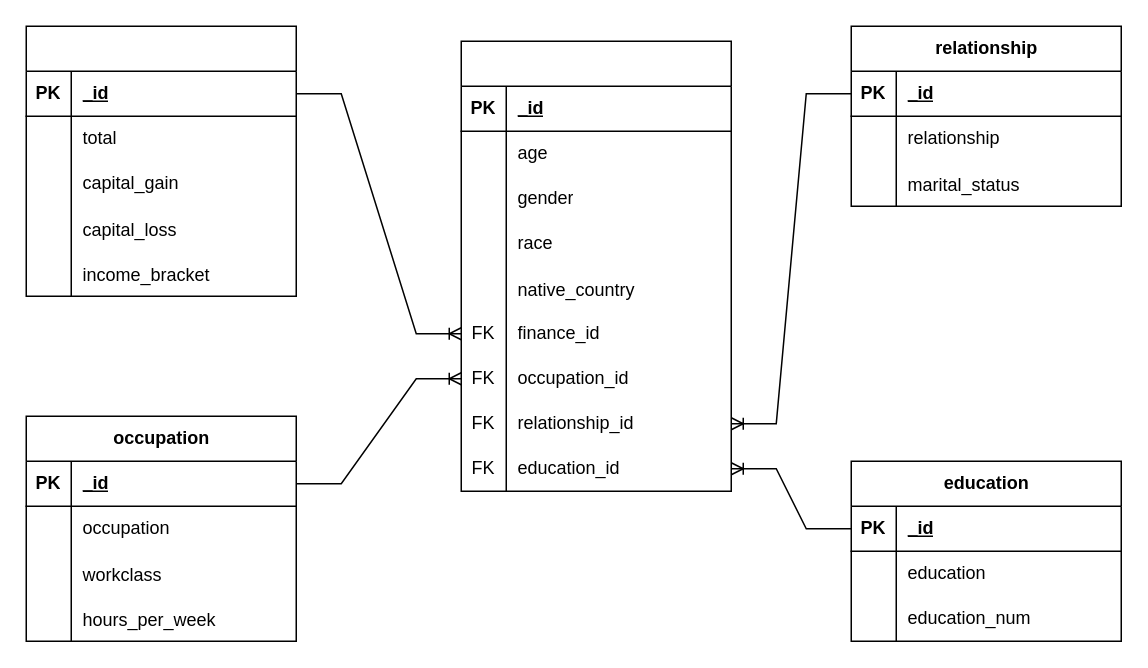
The diagram is 1148 pixels wide and 668 high, and some of its shapes have lost their labels. Here are the shapes that lost their labels. From the top down, the box of each, then its label:
(25, 25, 296, 296): finance
(460, 40, 731, 491): user
